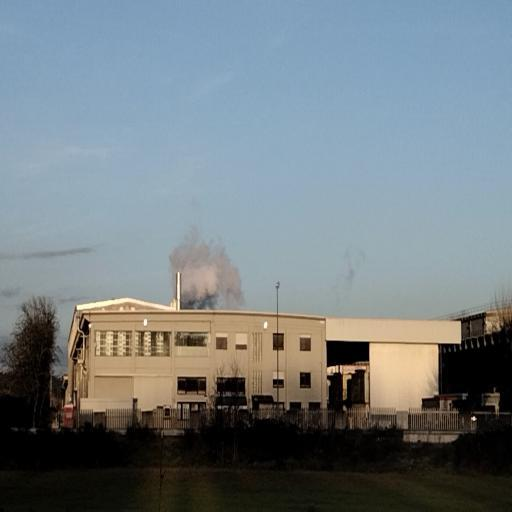leakage: (166, 224, 252, 312)
